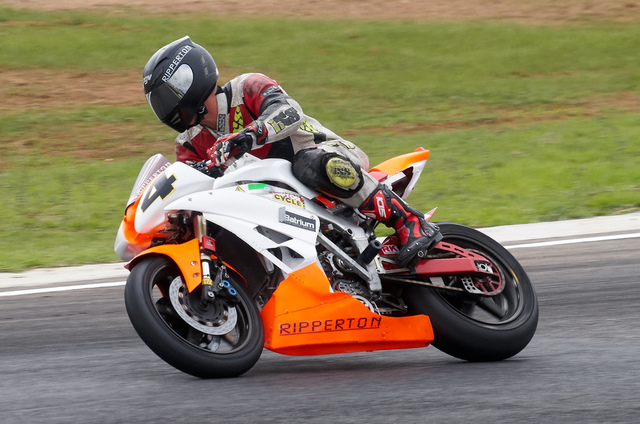helmet: (138, 46, 222, 117)
